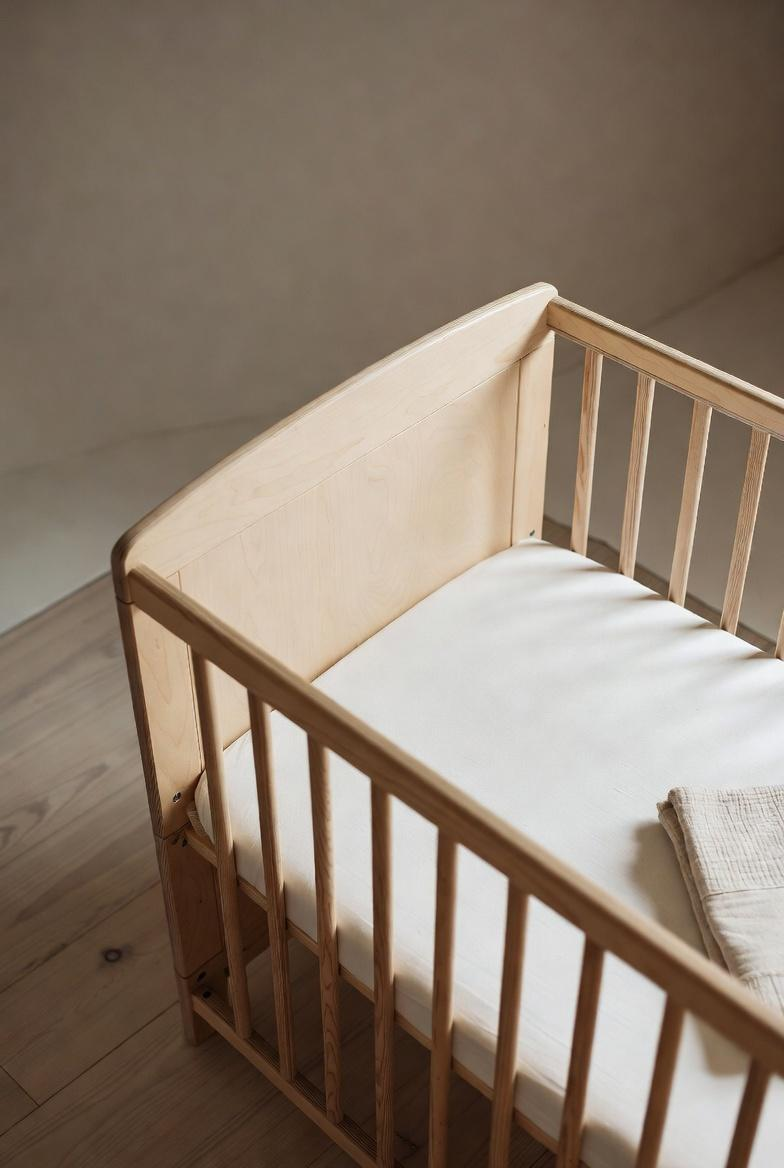crib: (113, 285, 784, 1168)
